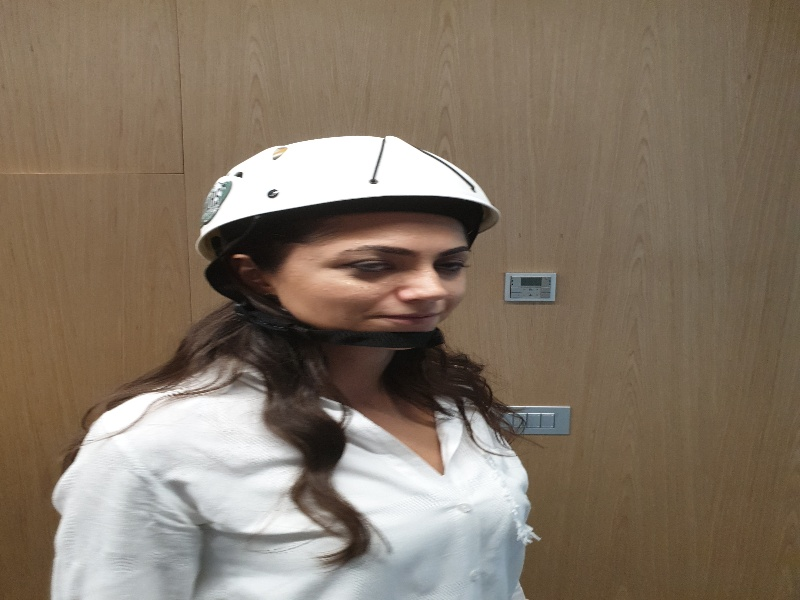Baret: (197, 135, 500, 231)
